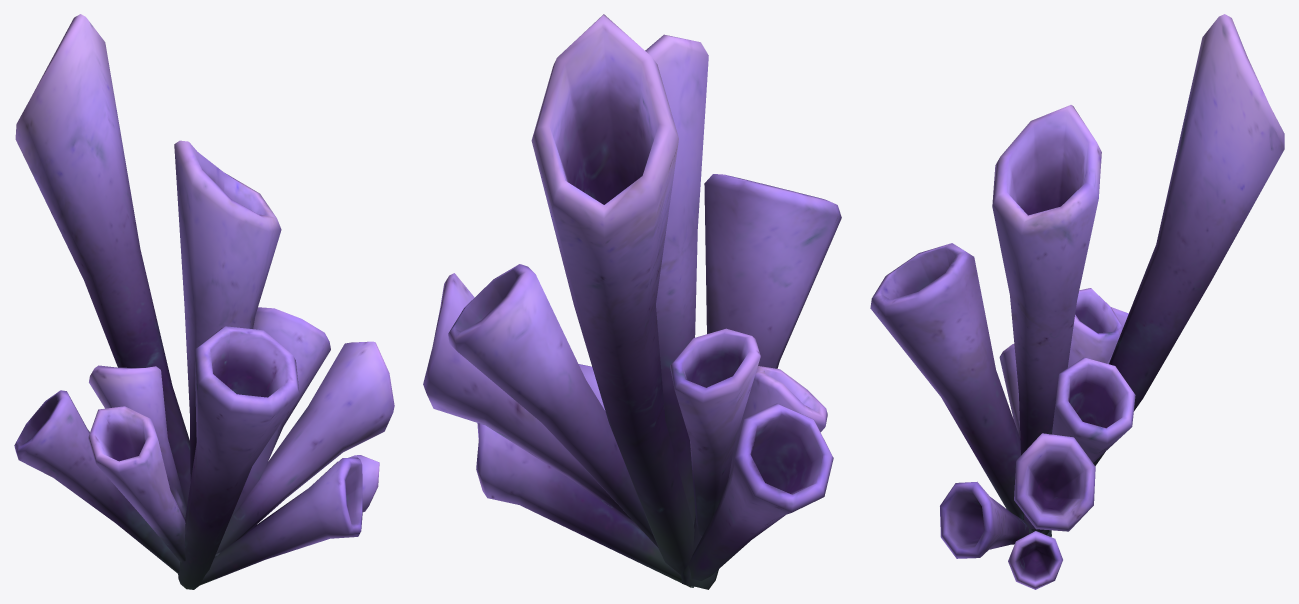
Rendered from Sce_Aquarium_Hawaii01_SeaAnemone09_a.FBX.
3 views of the same model, side by side, from view 1: azimuth 30°, elevation 25°; view 2: azimuth 150°, elevation 25°; view 3: azimuth 270°, elevation 25° (orthographic). The views are drawn at different scales.
Visible parts, largest first — view 1: Sce_Aquarium_Hawaii01_SeaAnemone09_a; view 2: Sce_Aquarium_Hawaii01_SeaAnemone09_a; view 3: Sce_Aquarium_Hawaii01_SeaAnemone09_a.
Part boxes in pixels (<box>): Sce_Aquarium_Hawaii01_SeaAnemone09_a: <box>14,14,394,589</box>; Sce_Aquarium_Hawaii01_SeaAnemone09_a: <box>423,14,841,589</box>; Sce_Aquarium_Hawaii01_SeaAnemone09_a: <box>870,14,1284,589</box>.
Bounding box in the file's own units: 0.5151 × 0.7623 × 0.5481.
